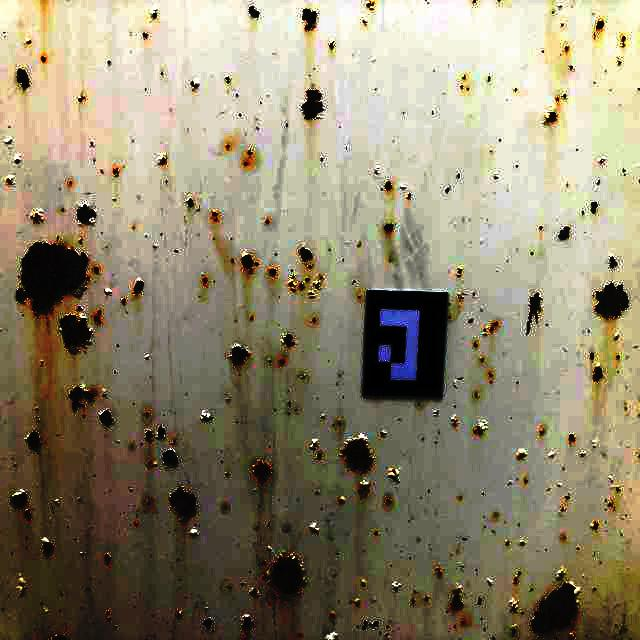Corrosion: (16, 240, 90, 315), (531, 580, 579, 636), (266, 554, 305, 599), (594, 281, 629, 318), (58, 314, 91, 351), (342, 437, 373, 474), (169, 488, 197, 523), (300, 87, 324, 120), (525, 291, 542, 336), (69, 385, 94, 412), (76, 201, 96, 225), (231, 343, 250, 365), (254, 461, 273, 483), (449, 585, 464, 610), (302, 7, 318, 30), (162, 447, 179, 467), (17, 67, 30, 89), (99, 408, 113, 428), (27, 430, 41, 450), (299, 245, 313, 263), (241, 254, 254, 273), (11, 493, 27, 508), (241, 615, 253, 633), (557, 225, 570, 241), (42, 539, 53, 556), (284, 334, 297, 348), (134, 279, 145, 294), (593, 365, 603, 381), (249, 5, 260, 18), (609, 255, 619, 269), (93, 310, 102, 325), (47, 634, 68, 640), (288, 278, 297, 292), (546, 111, 557, 122), (157, 425, 165, 440), (203, 617, 213, 629), (490, 321, 500, 332), (30, 210, 39, 222), (590, 200, 598, 213), (384, 222, 394, 232), (474, 424, 484, 434), (145, 430, 154, 441), (361, 618, 368, 632), (366, 0, 376, 9), (596, 18, 604, 29), (359, 486, 370, 494), (512, 600, 519, 612), (187, 197, 194, 208), (104, 552, 111, 563), (212, 210, 219, 220), (368, 621, 379, 627), (593, 522, 601, 530), (159, 154, 165, 164), (386, 498, 393, 506), (251, 590, 258, 598), (570, 434, 577, 442), (202, 277, 208, 286), (24, 511, 30, 520), (512, 627, 518, 636), (270, 268, 277, 275), (570, 633, 577, 640), (329, 39, 336, 46), (40, 54, 46, 62), (298, 282, 304, 289), (384, 182, 391, 188), (317, 453, 323, 460), (225, 75, 231, 82), (176, 611, 182, 618), (151, 8, 156, 16), (142, 32, 148, 38), (93, 267, 99, 272), (425, 597, 431, 602), (623, 34, 628, 40), (77, 306, 82, 311), (77, 95, 82, 100), (566, 495, 571, 500), (563, 93, 568, 98), (274, 594, 277, 602), (408, 193, 412, 198), (488, 75, 492, 80), (262, 561, 266, 566), (305, 278, 310, 282), (121, 298, 124, 304), (515, 578, 518, 584), (572, 64, 575, 70)
